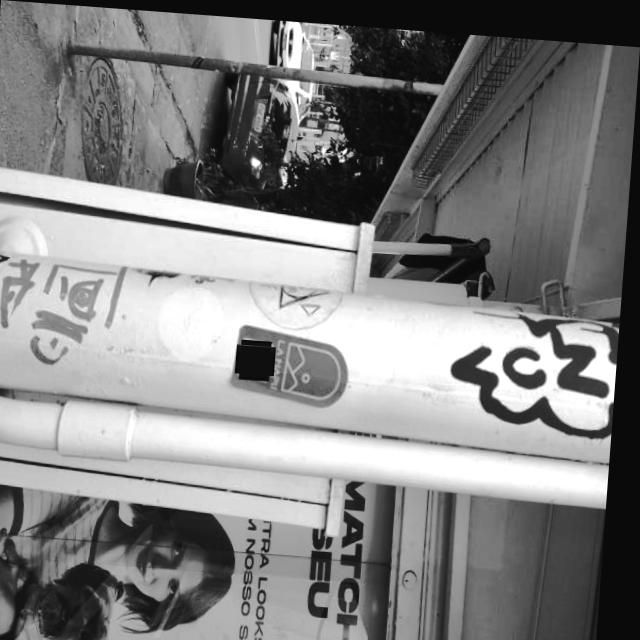qr_code: (241, 337, 278, 374)
